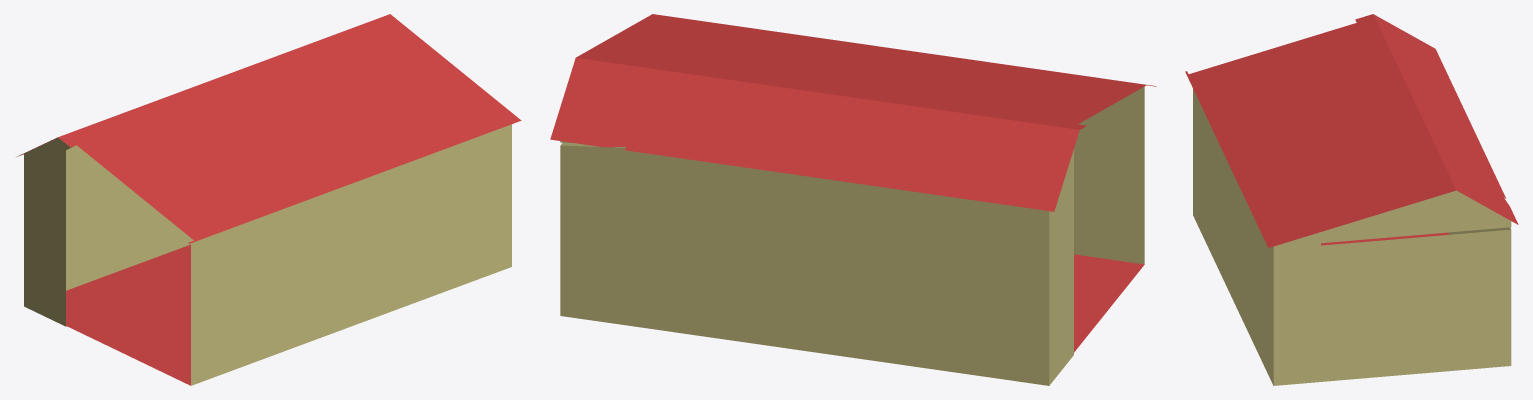
3 views of the same model, side by side, from view 1: azimuth 30°, elevation 25°; view 2: azimuth 150°, elevation 25°; view 3: azimuth 270°, elevation 25° (orthographic). The views are drawn at different scales.
Size of the model in its own units: 17.96 by 12.81 by 7.75.
